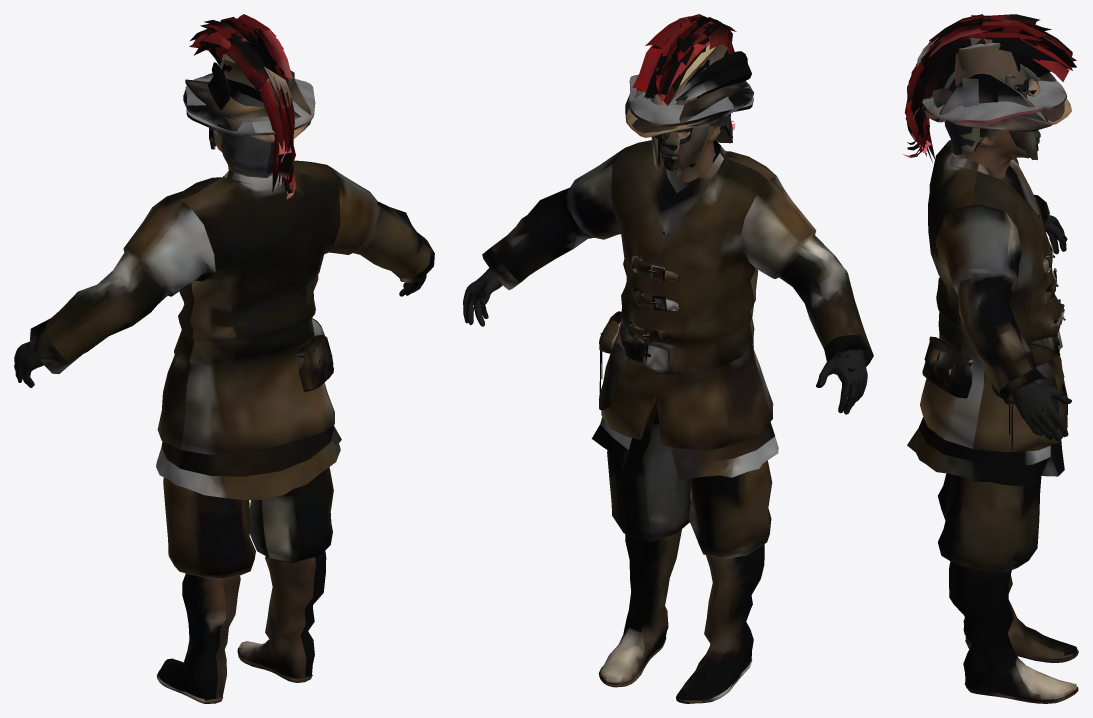
3 renders of one model, left to right at view 1: azimuth 30°, elevation 25°; view 2: azimuth 150°, elevation 25°; view 3: azimuth 270°, elevation 25°, orthographic. The views are drawn at different scales.
Visible parts, largest first — view 1: mesh_0; view 2: mesh_0; view 3: mesh_0.
Part boxes in pixels (x1,y1,x2,y2): mesh_0: (14, 14, 434, 703); mesh_0: (463, 14, 873, 703); mesh_0: (903, 14, 1078, 703).
Size of the model in its own units: 49.7 by 78.61 by 19.09.
1 material, 1 textured.
